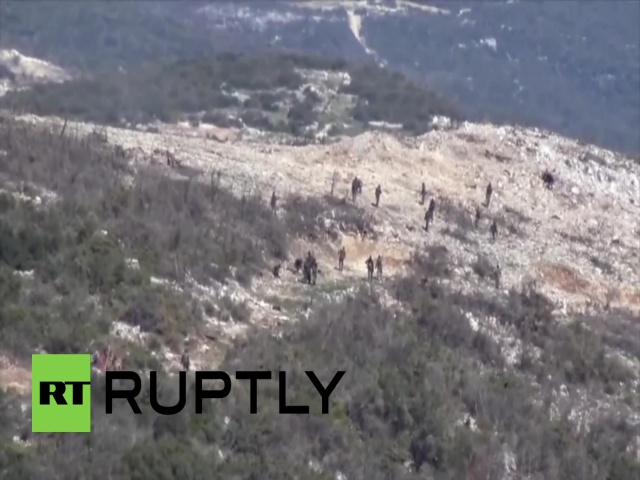person: (350, 171, 361, 201), (484, 181, 494, 210), (363, 255, 374, 279), (337, 245, 345, 270), (374, 184, 383, 206), (376, 253, 383, 278)
